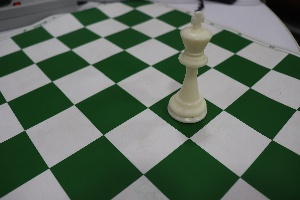white_king: (167, 8, 219, 132)
